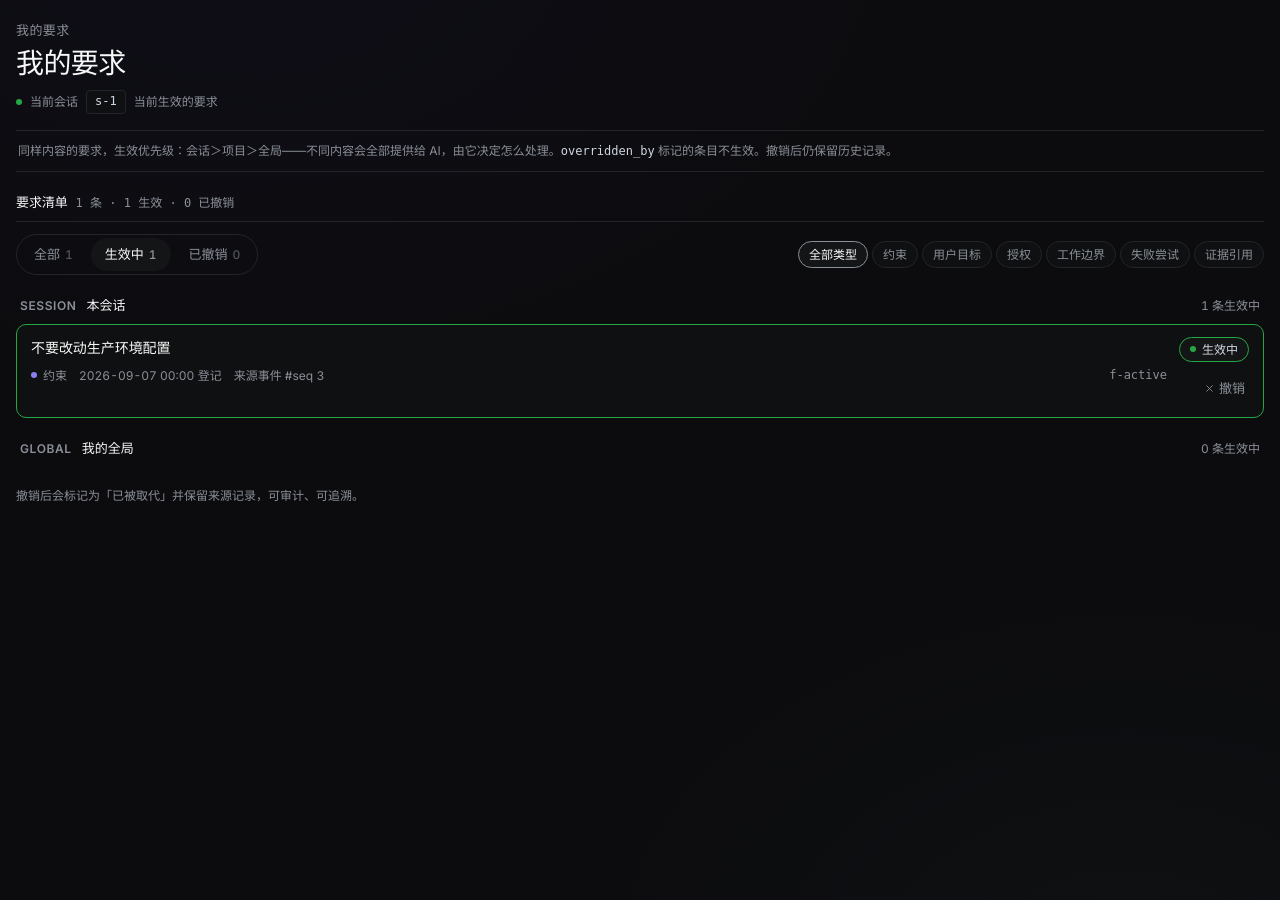
ConstraintsTab（状态外壳） › 取消确认框：不发请求、不重拉
This screenshot has width=1280, height=900.
What coordinates should you click on to do the following:
click the button "撤销"
I would click on:
 (1224, 388)
Its box is [1200,372,1249,404].
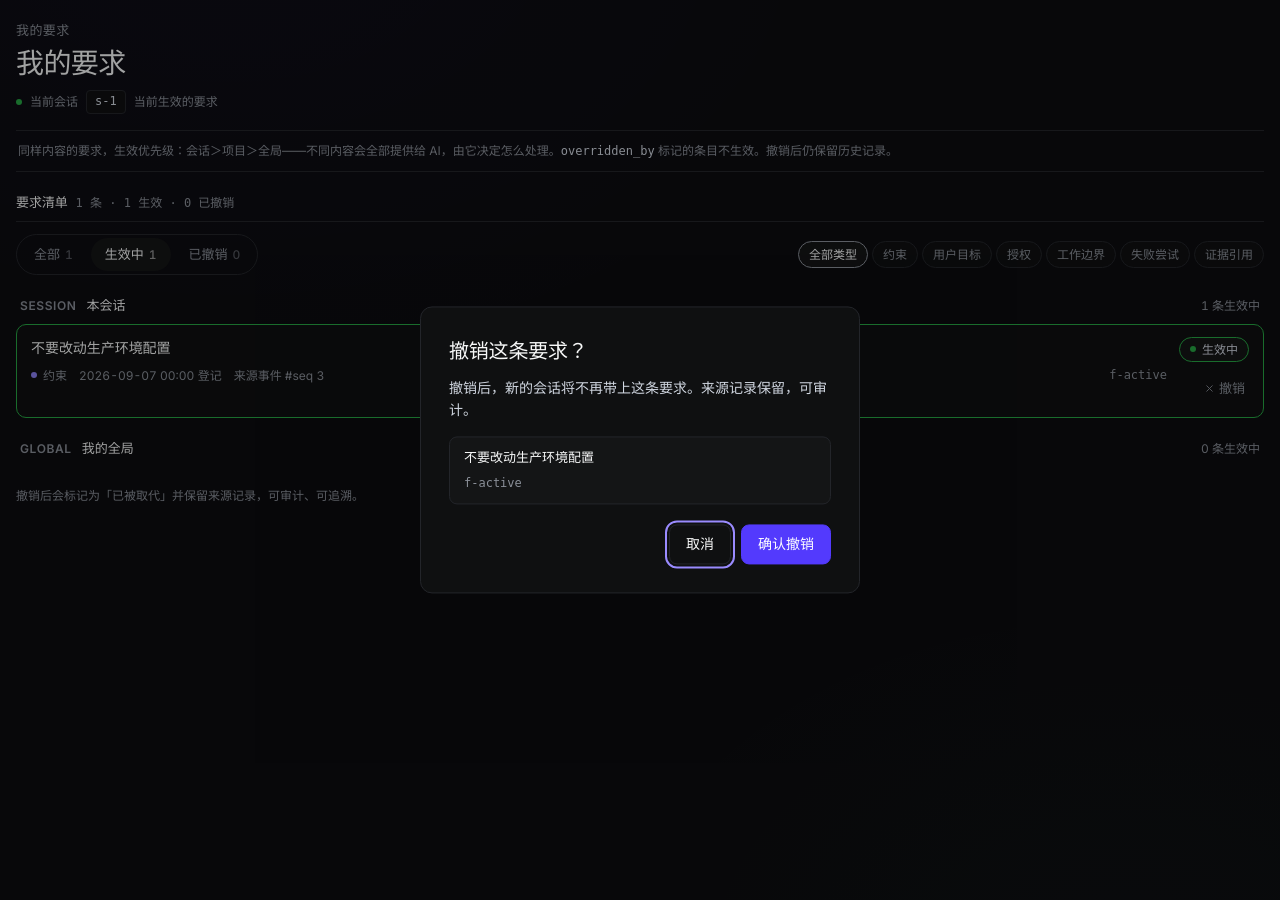
Now the text "撤销这条要求？" is shown, box [449,339,588,363]
What coordinates should you click on to do the following:
click the button "取消"
I would click on:
 (700, 544)
Its box is [669,524,731,565].
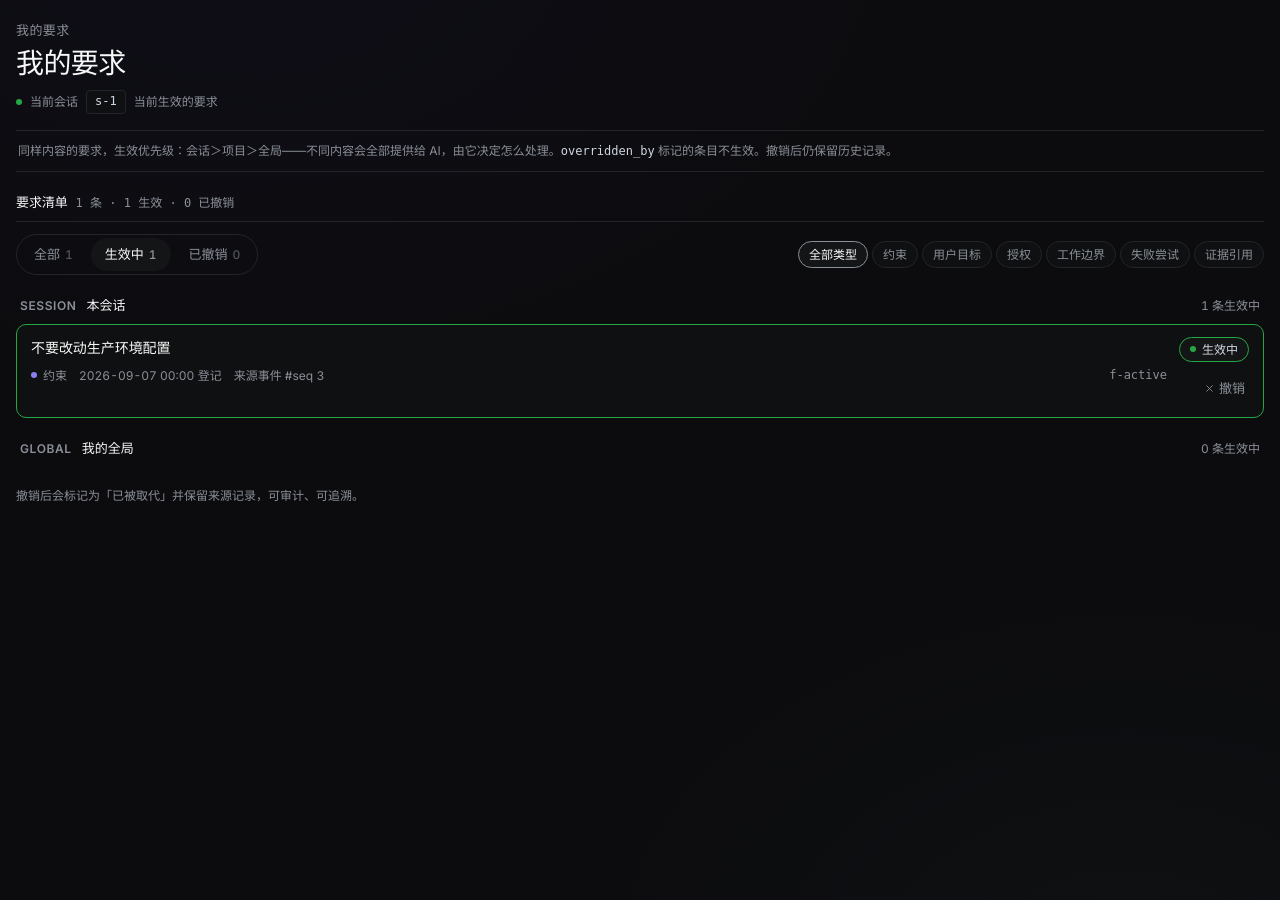
Now the text "撤销这条要求？" is gone
